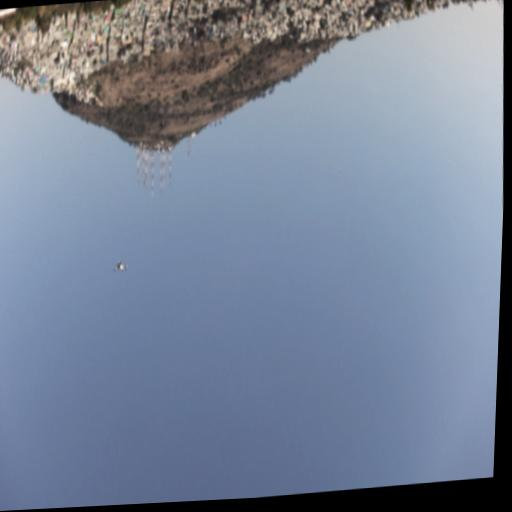drones: (111, 256, 130, 277)
